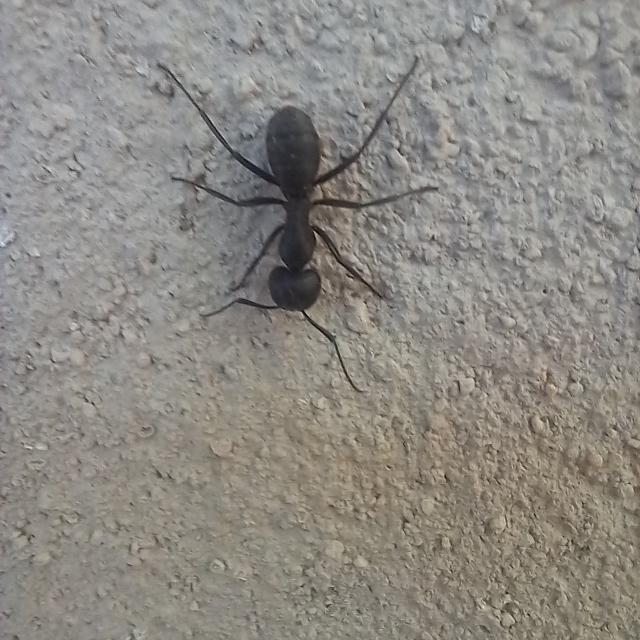Camponotus: (164, 52, 404, 348)
